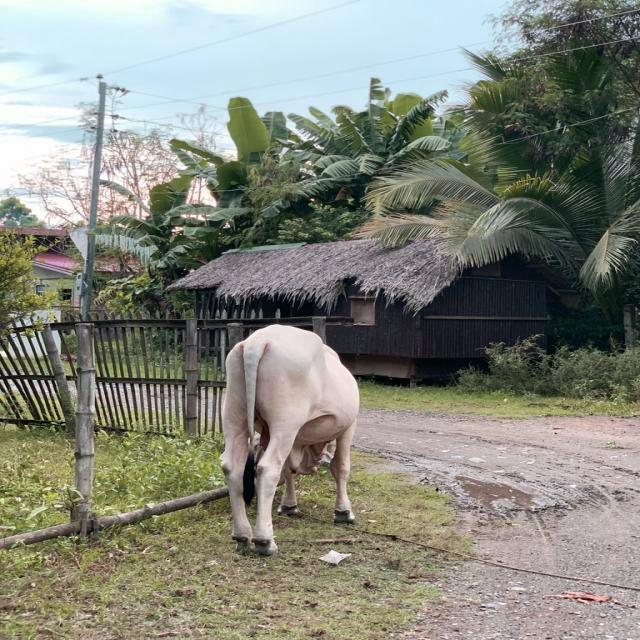cow: (222, 325, 359, 554)
